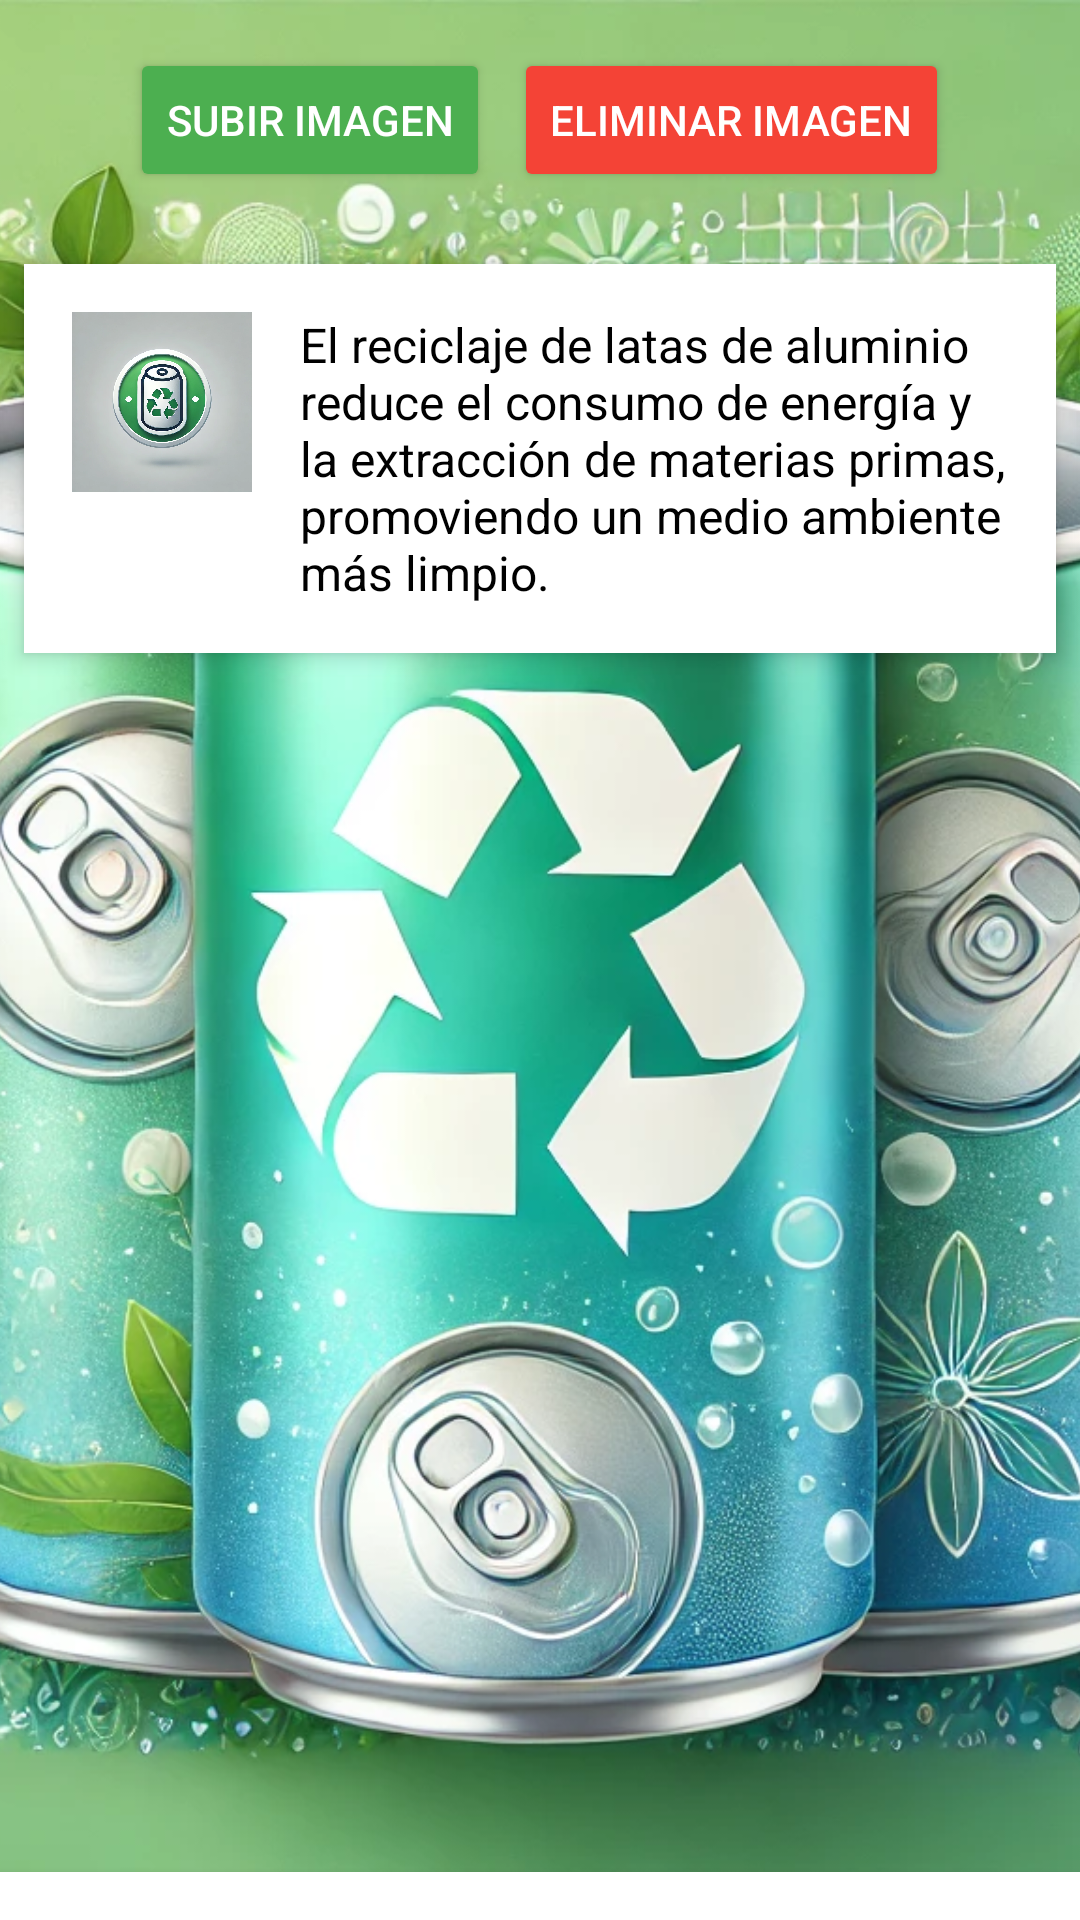

Where to tap for icons on this 1080px×1920px app screen, as (x=x, y=y):
Ícono de latas: (x=162, y=402)
